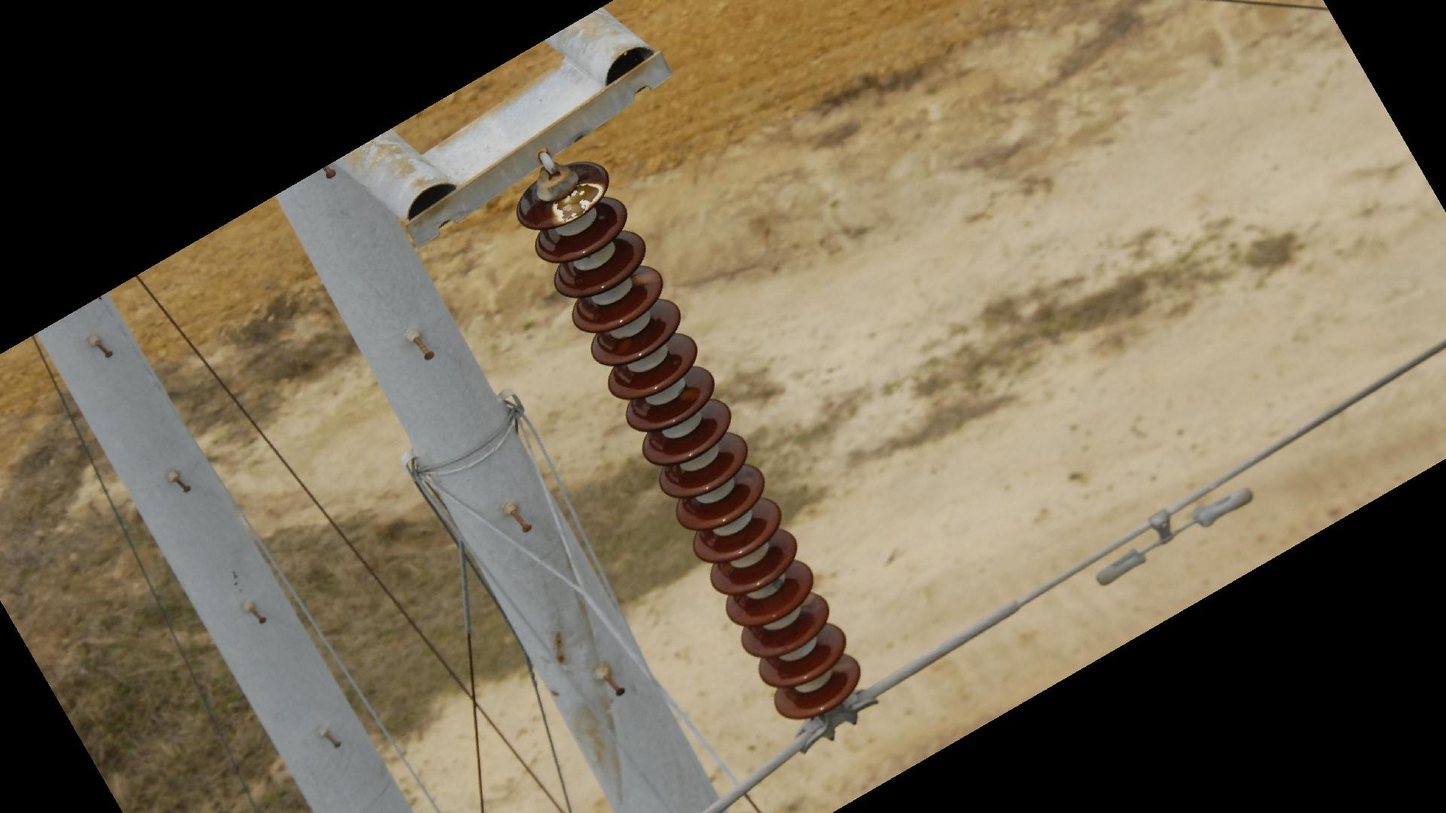insulator: (508, 155, 865, 724)
insulator_flashover: (549, 178, 607, 228)
